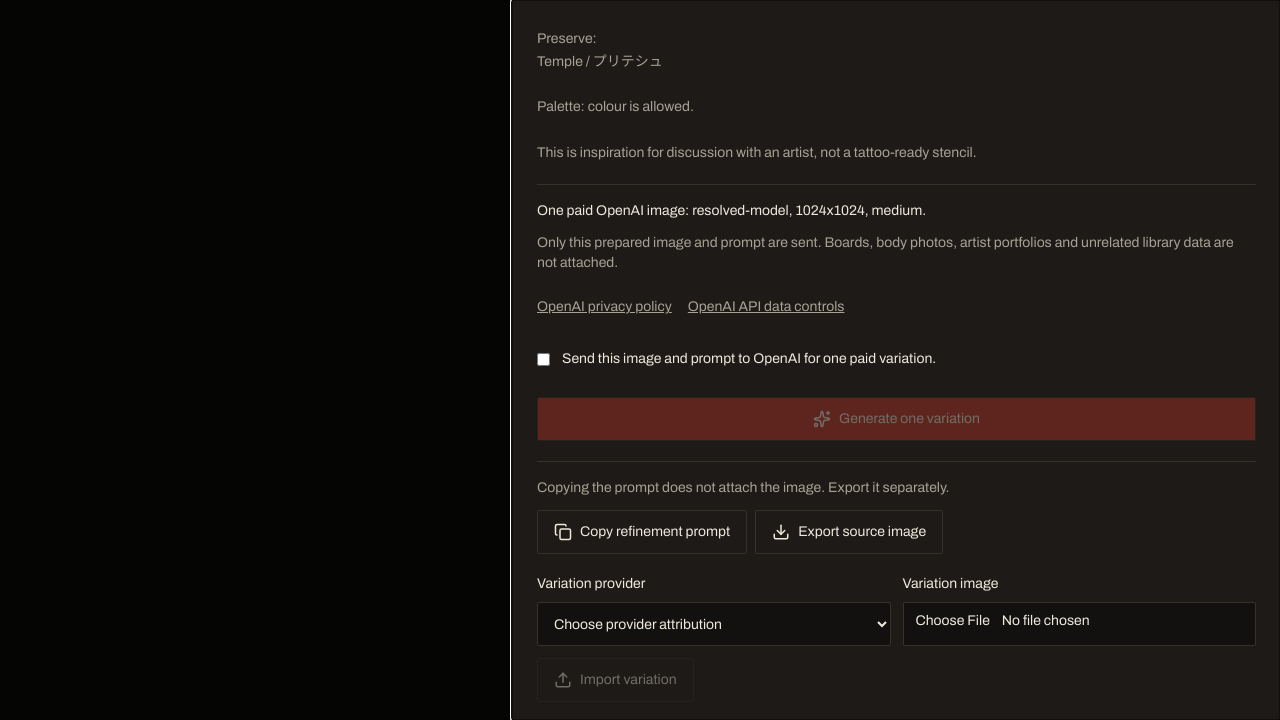
Scenario: shows the uncropped prepared source, exact prompt, provider profile and explicit upload consent
The image size is (1280, 720).
(page scrolled)
expect the text named "Outgoing prompt" shows "Preserve:": met, box left=537, top=0, right=1005, bottom=160
expect the text "One paid OpenAI image: resolved-model, 1024x1024, medium." is shown: met, box left=537, top=203, right=926, bottom=218
Step 1. Click the checkbox labelled "Send this image and prompt to OpenAI for one paid variation." → [544, 360], box left=537, top=353, right=550, bottom=366
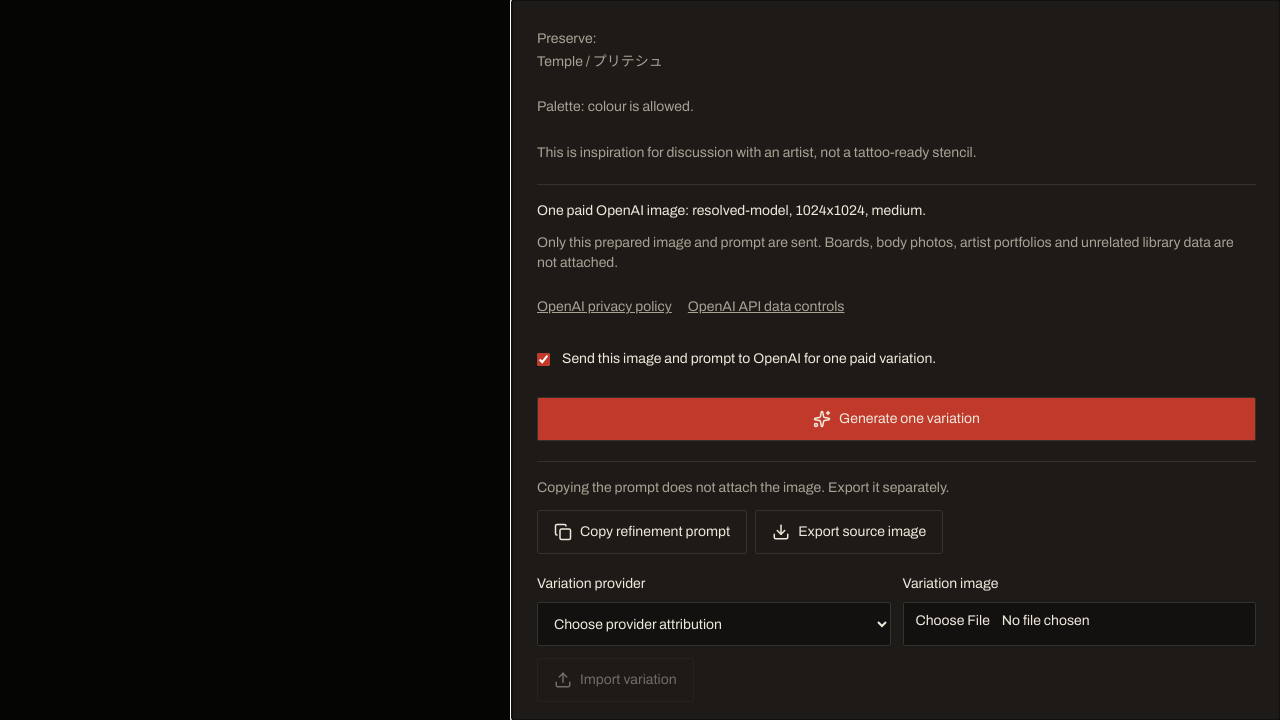
Step 2. Click the button "Generate one variation" → [896, 419], box left=537, top=397, right=1256, bottom=441
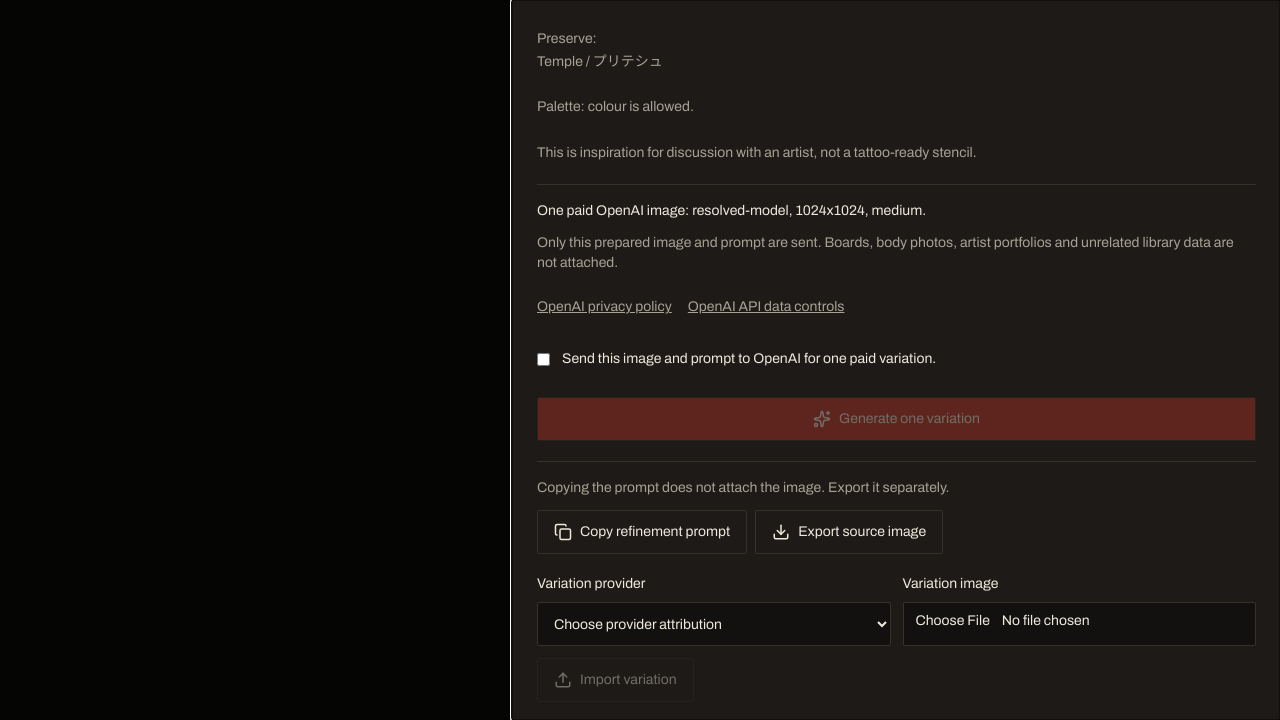
expect the checkbox labelled "Send this image and prompt to OpenAI for one paid variation." is not checked: met, box left=537, top=353, right=550, bottom=366
expect the button "Generate one variation" is disabled: met, box left=537, top=397, right=1256, bottom=441
